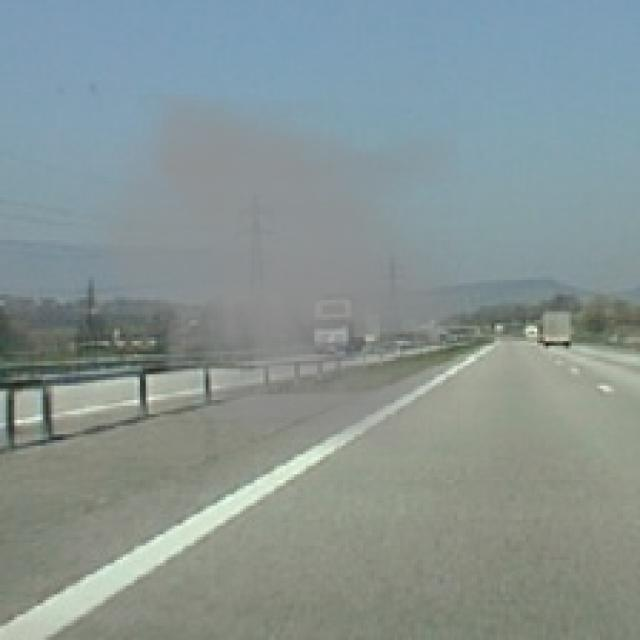smoke: (77, 94, 460, 457)
